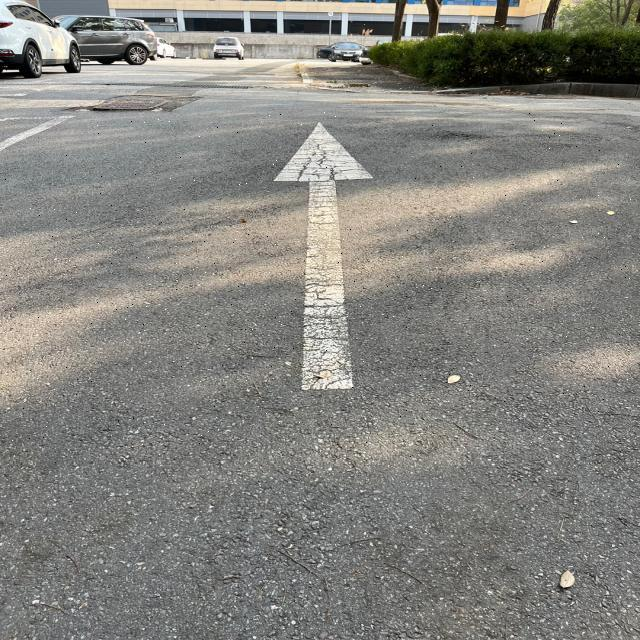forward: (6, 108, 631, 463)
